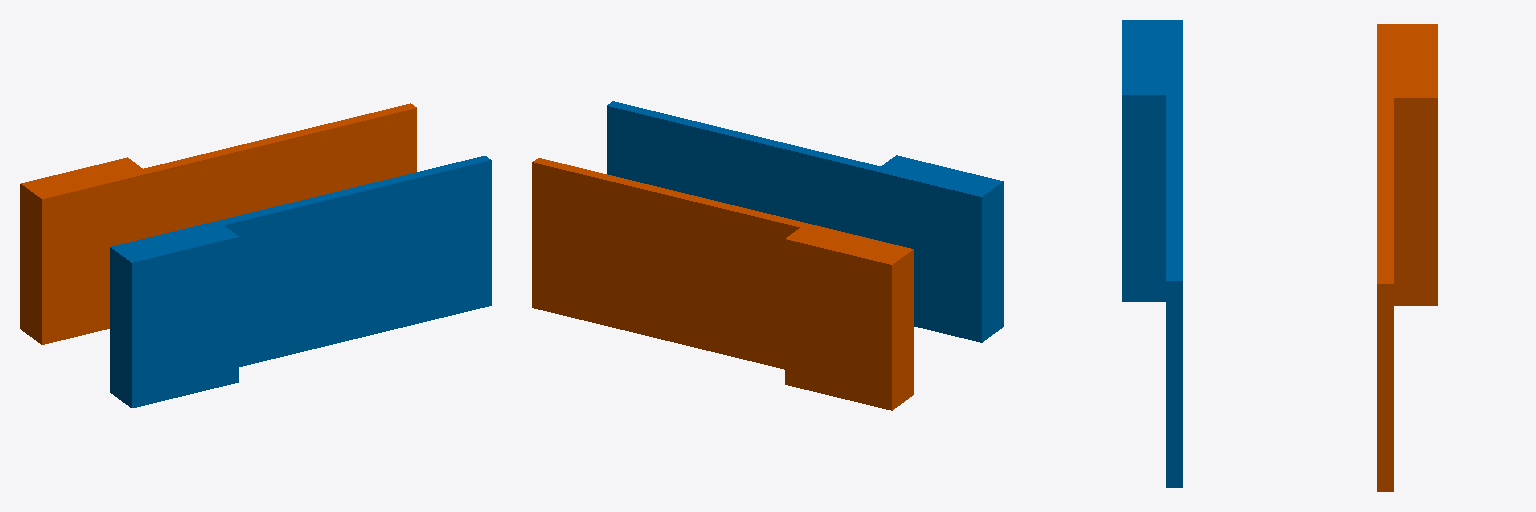
The robot description file, URDF, robot "rizon4":
<?xml version="1.0"?>
<!-- ======================================================================== -->
<!-- | Flexiv Rizon 4 (with blurred dynamic parameters)                     | -->
<!-- ======================================================================== -->
<robot name="rizon4">
  <joint name="joint1" type="revolute">
    <parent link="base_link" />
    <child link="link1" />
    <origin rpy="0.0 0.0 -3.141592653589793" xyz="0.0 0.0 0.155" />
    <axis xyz="0 0 1" />
    <limit effort="123" lower="-2.7925" upper="2.7925" velocity="2.0944" />
  </joint>
  <joint name="joint2" type="revolute">
    <parent link="link1" />
    <child link="link2" />
    <origin rpy="0.0 0.0 0.0" xyz="0.0 0.03 0.21" />
    <axis xyz="0 1 0" />
    <limit effort="123" lower="-2.2689" upper="2.2689" velocity="2.0944" />
  </joint>
  <joint name="joint3" type="revolute">
    <parent link="link2" />
    <child link="link3" />
    <origin rpy="0.0 0.0 0.0" xyz="0.0 0.035 0.205" />
    <axis xyz="0 0 1" />
    <limit effort="64" lower="-2.9671" upper="2.9671" velocity="2.4435" />
  </joint>
  <joint name="joint4" type="revolute">
    <parent link="link3" />
    <child link="link4" />
    <origin rpy="0.0 0.0 -3.141592653589793" xyz="-0.02 -0.03 0.19" />
    <axis xyz="0 1 0" />
    <limit effort="64" lower="-1.8675" upper="2.6878" velocity="2.4435" />
  </joint>
  <joint name="joint5" type="revolute">
    <parent link="link4" />
    <child link="link5" />
    <origin rpy="0.0 0.0 -3.141592653589793" xyz="-0.02 0.025 0.195" />
    <axis xyz="0 0 1" />
    <limit effort="39" lower="-2.9671" upper="2.9671" velocity="4.8869" />
  </joint>
  <joint name="joint6" type="revolute">
    <parent link="link5" />
    <child link="link6" />
    <origin rpy="0.0 0.0 0.0" xyz="0.0 0.03 0.19" />
    <axis xyz="0 1 0" />
    <limit effort="39" lower="-1.3963" upper="4.5379" velocity="4.8869" />
  </joint>
  <joint name="joint7" type="revolute">
    <parent link="link6" />
    <child link="link7" />
    <origin rpy="0.0 -1.5707963478683205 0.0" xyz="-0.055 0.07 0.11" />
    <axis xyz="0 0 1" />
    <limit effort="39" lower="-2.9671" upper="2.9671" velocity="4.8869" />
  </joint>
  <joint name="link7_to_flange" type="fixed">
    <parent link="link7" />
    <child link="flange" />
    <origin rpy="0.0 0.0 -3.141592653589793" xyz="0.0 0.0 0.081" />
  </joint>
  
  <joint name="flexiv_hand_joint" type="fixed">
    <parent link="flange"/>
    <child link="base_hand"/>
    <origin rpy="0 0 0" xyz="0 0 0"/>
  </joint>
  
  
  <joint name="open_fingers_tcp_joint" type="fixed">
    <origin rpy="0 0 0" xyz="0 0 0.15"/>
    <parent link="base_hand"/>
    <child link="tcp"/>
    <axis xyz="0 0 1"/>
  </joint>

  <joint name="closed_fingers_tcp_joint" type="fixed">
    <origin rpy="0 0 0" xyz="0 0 0.20"/>
    <parent link="base_hand"/>
    <child link="closed_fingers_tcp"/>
    <axis xyz="0 0 1"/>
  </joint>

  <!-- left finger joints -->
  <joint name="left_outer_knuckle_joint" type="revolute">
    <origin rpy="0 0 0" xyz="0 -0.0325 0.0825"/>
    <parent link="base_hand"/>
    <child link="left_outer_bar"/>
    <axis xyz="1 0 0"/>
    <limit effort="0" lower="-0.155" upper="0.7854" velocity="2.0"/>
    <mimic joint="finger_width_joint" multiplier="9.404" offset="-0.155"/>
  </joint>

  <joint name="left_inner_finger_joint" type="fixed">
    <origin rpy="0 0 0" xyz="0 0 0.058"/>
    <parent link="left_outer_bar"/>
    <child link="left_finger_mount"/>
    <axis xyz="1 0 0"/>
    <limit effort="0" lower="-0.7854" upper="0.155" velocity="2.0"/>
    <mimic joint="left_outer_knuckle_joint" multiplier="-1" offset="0"/>
  </joint>
  <joint name="left_inner_finger_pad_joint" type="fixed">
    <origin rpy="0 0 0" xyz="0 0.010 0.0235"/>
    <parent link="left_finger_mount"/>
    <child link="left_finger_tip"/>
    <axis xyz="0 0 1"/>
  </joint>
  
  
  
  <joint name="left_finger_tcp_joint" type="fixed">
    <origin rpy="0 0 0" xyz="0 0.0135 0.036"/>
    <parent link="left_finger_tip"/>
    <child link="left_finger_tcp"/>
    <axis xyz="0 0 1"/>
  </joint>

  <!-- right finger joints -->
  <joint name="right_outer_knuckle_joint" type="revolute">
    <origin rpy="0 0 3.141592653589793" xyz="0 0.0325 0.0825"/>
    <parent link="base_hand"/>
    <child link="right_outer_bar"/>
    <axis xyz="1 0 0"/>
    <limit effort="0" lower="-0.155" upper="0.7854" velocity="2.0"/>
    <mimic joint="left_outer_knuckle_joint" multiplier="1" offset="0"/>
  </joint>

  <joint name="right_inner_finger_joint" type="fixed">      
    <origin rpy="0 0 0" xyz="0 0 0.058"/>
    <parent link="right_outer_bar"/>
    <child link="right_finger_mount"/>
    <axis xyz="1 0 0"/>
    <limit effort="0" lower="-0.7854" upper="0.155" velocity="2.0"/>
    <mimic joint="left_outer_knuckle_joint" multiplier="-1" offset="0"/>
  </joint>
  <joint name="right_inner_finger_pad_joint" type="fixed">
    <origin rpy="0 0 0" xyz="0 0.010 0.0235"/>
    <parent link="right_finger_mount"/>
    <child link="right_finger_tip"/>
    <axis xyz="0 0 1"/>
  </joint>
  
  
  
  <joint name="right_finger_tcp_joint" type="fixed">
    <origin rpy="0 0 0" xyz="0 0.0135 0.036"/>
    <parent link="right_finger_tip"/>
    <child link="right_finger_tcp"/>
    <axis xyz="0 0 1"/>
  </joint>

  <link name="base_link">
    <inertial>
      <mass value="3.7" />
      <origin rpy="0 0 0" xyz="0.0 -0.0 0.09" />
      <inertia ixx="0.02" ixy="0.0" ixz="0.0" iyy="0.02" iyz="0.0" izz="0.01" />
    </inertial>
    <visual>
      <origin rpy="0 0 0" xyz="0 0 0" />
      <geometry>
        <mesh filename="meshes/rizon4/visual/link0.obj" />
      </geometry>
      <material name="rizon_light_grey" />
    </visual>
    <collision>
      <origin rpy="0 0 0" xyz="0 0 0" />
      <geometry>
        <mesh filename="meshes/rizon4/collision/link0.stl" />
      </geometry>
    </collision>
  </link>
  <link name="link1">
    <inertial>
      <mass value="3.7" />
      <origin rpy="0 0 0" xyz="0.0 0.01 0.15" />
      <inertia ixx="0.03" ixy="0.0" ixz="0.0" iyy="0.03" iyz="0.0" izz="0.01" />
    </inertial>
    <visual>
      <origin rpy="0 0 0" xyz="0 0 0" />
      <geometry>
        <mesh filename="meshes/rizon4/visual/link1.obj" />
      </geometry>
      <material name="rizon_light_grey" />
    </visual>
    <collision>
      <origin rpy="0 0 0" xyz="0 0 0" />
      <geometry>
        <mesh filename="meshes/rizon4/collision/link1.stl" />
      </geometry>
    </collision>
  </link>
  <link name="link2">
    <inertial>
      <mass value="2.7" />
      <origin rpy="0 0 0" xyz="0.0 0.04 0.1" />
      <inertia ixx="0.02" ixy="0.0" ixz="0.0" iyy="0.02" iyz="-0.0" izz="0.0" />
    </inertial>
    <visual>
      <origin rpy="0 0 0" xyz="0 0 0" />
      <geometry>
        <mesh filename="meshes/rizon4/visual/link2.obj" />
      </geometry>
      <material name="rizon_light_grey" />
    </visual>
    <collision>
      <origin rpy="0 0 0" xyz="0 0 0" />
      <geometry>
        <mesh filename="meshes/rizon4/collision/link2.stl" />
      </geometry>
    </collision>
  </link>
  <link name="link3">
    <inertial>
      <mass value="2.4" />
      <origin rpy="0 0 0" xyz="-0.01 -0.0 0.13" />
      <inertia ixx="0.01" ixy="0.0" ixz="-0.0" iyy="0.01" iyz="-0.0" izz="0.0" />
    </inertial>
    <visual>
      <origin rpy="0 0 0" xyz="0 0 0" />
      <geometry>
        <mesh filename="meshes/rizon4/visual/link3.obj" />
      </geometry>
      <material name="rizon_light_grey" />
    </visual>
    <collision>
      <origin rpy="0 0 0" xyz="0 0 0" />
      <geometry>
        <mesh filename="meshes/rizon4/collision/link3.stl" />
      </geometry>
    </collision>
  </link>
  <link name="link4">
    <inertial>
      <mass value="2.4" />
      <origin rpy="0 0 0" xyz="-0.01 0.03 0.1" />
      <inertia ixx="0.02" ixy="0.0" ixz="-0.0" iyy="0.02" iyz="-0.0" izz="0.0" />
    </inertial>
    <visual>
      <origin rpy="0 0 0" xyz="0 0 0" />
      <geometry>
        <mesh filename="meshes/rizon4/visual/link4.obj" />
      </geometry>
      <material name="rizon_light_grey" />
    </visual>
    <collision>
      <origin rpy="0 0 0" xyz="0 0 0" />
      <geometry>
        <mesh filename="meshes/rizon4/collision/link4.stl" />
      </geometry>
    </collision>
  </link>
  <link name="link5">
    <inertial>
      <mass value="2.4" />
      <origin rpy="0 0 0" xyz="-0.0 0.0 0.13" />
      <inertia ixx="0.01" ixy="0.0" ixz="0.0" iyy="0.01" iyz="0.0" izz="0.0" />
    </inertial>
    <visual>
      <origin rpy="0 0 0" xyz="0 0 0" />
      <geometry>
        <mesh filename="meshes/rizon4/visual/link5.obj" />
      </geometry>
      <material name="rizon_light_grey" />
    </visual>
    <collision>
      <origin rpy="0 0 0" xyz="0 0 0" />
      <geometry>
        <mesh filename="meshes/rizon4/collision/link5.stl" />
      </geometry>
    </collision>
  </link>
  <link name="link6">
    <inertial>
      <mass value="2.1" />
      <origin rpy="0 0 0" xyz="-0.01 0.06 0.07" />
      <inertia ixx="0.01" ixy="-0.0" ixz="-0.0" iyy="0.01" iyz="0.0" izz="0.0" />
    </inertial>
    <visual>
      <origin rpy="0 0 0" xyz="0 0 0" />
      <geometry>
        <mesh filename="meshes/rizon4/visual/link6.obj" />
      </geometry>
      <material name="rizon_light_grey" />
    </visual>
    <collision>
      <origin rpy="0 0 0" xyz="0 0 0" />
      <geometry>
        <mesh filename="meshes/rizon4/collision/link6.stl" />
      </geometry>
    </collision>
  </link>
  <link name="link7">
    <inertial>
      <mass value="0.8" />
      <origin rpy="0 0 0" xyz="0.0 -0.0 0.03" />
      <inertia ixx="0.0" ixy="0.0" ixz="0.0" iyy="0.0" iyz="0.0" izz="0.0" />
    </inertial>
    <visual>
      <origin rpy="0 0 0" xyz="0 0 0" />
      <geometry>
        <mesh filename="meshes/rizon4/visual/link7.obj" />
      </geometry>
      <material name="rizon_light_grey" />
    </visual>
    <collision>
      <origin rpy="0 0 0" xyz="0 0 0" />
      <geometry>
        <mesh filename="meshes/rizon4/collision/link7.stl" />
      </geometry>
    </collision>
  </link>
  <link name="flange" />
  
  <link name="base_hand">
    <inertial>
      <origin rpy="0 0 0" xyz="0 0 0.057"/>
      <mass value="1.186"/>
      <inertia ixx="3E-3" ixy="0" ixz="0" iyy="3E-3" iyz="-0" izz="1E-3"/>
    </inertial>
    <visual>
      <origin rpy="0 0 1.5707963267948966" xyz="0 0 0"/>
      <geometry>
        <mesh filename="meshes/grav/visual/base.stl" scale="0.001 0.001 0.001"/>
      </geometry>
      <material name="flexiv_black"/>
    </visual>
    <collision>
      <origin rpy="0 0 1.5707963267948966" xyz="0 0 0"/>
      <geometry>
        <mesh filename="meshes/grav/collision/base.stl" scale="0.001 0.001 0.001"/>
      </geometry>
    </collision>
  </link>
  <link name="left_outer_bar">
    <inertial>
        <origin xyz="0 0 0.029" rpy="0 0 0" />
        <mass value="1E-4" />
        <inertia ixx="1E-7" ixy="0" ixz="0" iyy="1E-7" iyz="0" izz="1E-7" />
    </inertial>
    <visual>
      <origin rpy="0 0 1.5707963267948966" xyz="0 0 0"/>
      <geometry>
        <mesh filename="meshes/grav/visual/outer_bar.stl" scale="0.001 0.001 0.001"/>
      </geometry>
      <material name="flexiv_black"/>
    </visual>
  </link>
  
  <link name="left_finger_mount">
    <inertial>
        <origin xyz="0 0 0" rpy="0 0 0" />
        <mass value="1E-4" />
        <inertia ixx="1E-7" ixy="0" ixz="0" iyy="1E-7" iyz="0" izz="1E-7" />
    </inertial>
    <visual>
      <origin rpy="0 0 1.5707963267948966" xyz="0 0 0"/>
      <geometry>
        <mesh filename="meshes/grav/visual/finger_mount.stl" scale="0.001 0.001 0.001"/>
      </geometry>
      <material name="flexiv_black"/>
    </visual>
  </link>
  <link name="left_finger_plus">
    <inertial>
      <origin rpy="0 0 0" xyz="0 0 0"/>
      <mass value="0"/>
      <inertia ixx="0" ixy="0" ixz="0" iyy="0" iyz="0" izz="0"/>
    </inertial>
    <visual>
      <origin rpy="0 -1.5707963267948966 0" xyz="0 0 0"/>
      <geometry>
        <mesh filename="meshes/grav/visual/plushand.obj" scale="0.001 0.001 0.001"/>
      </geometry>
    </visual>
    <collision>
      <origin rpy="0 -1.5707963267948966 0" xyz="0 0 0"/>
      <geometry>
        <mesh filename="meshes/grav/collision/plushand.stl" scale="0.001 0.001 0.001"/>
      </geometry>
    </collision>
  </link>
  <link name="right_finger_plus">
    <inertial>
      <origin rpy="0 0 0" xyz="0 0 0"/>
      <mass value="0"/>
      <inertia ixx="0" ixy="0" ixz="0" iyy="0" iyz="0" izz="0"/>
    </inertial>
    <visual>
      <origin rpy="0 -1.5707963267948966 0" xyz="0 0 0"/>
      <geometry>
        <mesh filename="meshes/grav/visual/plushand.obj" scale="0.001 0.001 0.001"/>
      </geometry>
    </visual>
    <collision>
      <origin rpy="0 -1.5707963267948966 0" xyz="0 0 0"/>
      <geometry>
        <mesh filename="meshes/grav/collision/plushand.stl" scale="0.001 0.001 0.001"/>
      </geometry>
    </collision>
  </link>
  
  <joint name="left_finger_plus_joint" type="fixed">
    <origin rpy="0 0 0" xyz="0.0064 0.0135 0.0255"/>
    <parent link="left_finger_tip"/>
    <child link="left_finger_plus"/>
    <axis xyz="0 0 1"/>
  </joint>
  <joint name="right_finger_plus_joint" type="fixed">
    <origin rpy="0 0 0" xyz="0.0064 0.0135 0.0255"/>
    <parent link="right_finger_tip"/>
    <child link="right_finger_plus"/>
    <axis xyz="0 0 1"/>
  </joint>
 
  <link name="left_finger_tip">
    <inertial>
      <origin rpy="0 0 0" xyz="0 0 0"/>
      <mass value="0"/>
      <inertia ixx="0" ixy="0" ixz="0" iyy="0" iyz="0" izz="0"/>
    </inertial>
    <visual>
      <origin rpy="0 0 1.5707963267948966" xyz="0 0 0"/>
      <geometry>
        <mesh filename="meshes/grav/visual/finger_tip.obj" scale="0.001 0.001 0.001"/>
      </geometry>
    </visual>
    <collision>
      <origin rpy="0 0 1.5707963267948966" xyz="0 0 0"/>
      <geometry>
        <mesh filename="meshes/grav/collision/finger_tip.stl" scale="0.001 0.001 0.001"/>
      </geometry>
    </collision>
  </link>
  
  <link name="right_outer_bar">
    <inertial>
        <origin xyz="0 0 0.029" rpy="0 0 0" />
        <mass value="1E-4" />
        <inertia ixx="1E-7" ixy="0" ixz="0" iyy="1E-7" iyz="0" izz="1E-7" />
    </inertial>
    <visual>
      <origin rpy="0 0 1.5707963267948966" xyz="0 0 0"/>
      <geometry>
        <mesh filename="meshes/grav/visual/outer_bar.stl" scale="0.001 0.001 0.001"/>
      </geometry>
      <material name="flexiv_black"/>
    </visual>
  </link>
  
  
  <link name="right_finger_mount">
    <inertial>
        <origin xyz="0 0 0" rpy="0 0 0" />
        <mass value="1E-4" />
        <inertia ixx="1E-7" ixy="0" ixz="0" iyy="1E-7" iyz="0" izz="1E-7" />
    </inertial>
    <visual>
      <origin rpy="0 0 1.5707963267948966" xyz="0 0 0"/>
      <geometry>
        <mesh filename="meshes/grav/visual/finger_mount.stl" scale="0.001 0.001 0.001"/>
      </geometry>
      <material name="flexiv_black"/>
    </visual>
  </link>
  <link name="right_finger_tip">
    <inertial>
      <origin rpy="0 0 0" xyz="0 0 0"/>
      <mass value="0"/>
      <inertia ixx="0" ixy="0" ixz="0" iyy="0" iyz="0" izz="0"/>
    </inertial>
    <visual>
      <origin rpy="0 0 1.5707963267948966" xyz="0 0 0"/>
      <geometry>
        <mesh filename="meshes/grav/visual/finger_tip.obj" scale="0.001 0.001 0.001"/>
      </geometry>
    </visual>
    <collision>
      <origin rpy="0 0 1.5707963267948966" xyz="0 0 0"/>
      <geometry>
        <mesh filename="meshes/grav/collision/finger_tip.stl" scale="0.001 0.001 0.001"/>
      </geometry>
    </collision>
  </link>
  
  

  <!-- TCP links -->
  <link name="tcp"><!-- open finger, used by RCA -->
    <inertial>
      <origin rpy="0 0 0" xyz="0 0 0"/>
      <mass value="0"/>
      <inertia ixx="0" ixy="0" ixz="0" iyy="0" iyz="0" izz="0"/>
    </inertial>
  </link>
  <link name="closed_fingers_tcp">
    <inertial>
      <origin rpy="0 0 0" xyz="0 0 0"/>
      <mass value="0"/>
      <inertia ixx="0" ixy="0" ixz="0" iyy="0" iyz="0" izz="0"/>
    </inertial>
  </link>
  <link name="left_finger_tcp">
    <inertial>
      <origin rpy="0 0 0" xyz="0 0 0"/>
      <mass value="0"/>
      <inertia ixx="0" ixy="0" ixz="0" iyy="0" iyz="0" izz="0"/>
    </inertial>
  </link>
  <link name="right_finger_tcp">
    <inertial>
      <origin rpy="0 0 0" xyz="0 0 0"/>
      <mass value="0"/>
      <inertia ixx="0" ixy="0" ixz="0" iyy="0" iyz="0" izz="0"/>
    </inertial>
  </link>
  
  
  <material name="rizon_blue">
    <color rgba="0.0 0.0 1.0 0.5" />
  </material>
  <material name="rizon_light_grey">
    <color rgba="0.7 0.7 0.7 1.0" />
  </material>
  <material name="rizon_dark_grey">
    <color rgba="0.4 0.4 0.4 1.0" />
  </material>
  <material name="rizon_white">
    <color rgba="1.0 1.0 1.0 1.0" />
  </material>
  <material name="flexiv_black">
    <color rgba="0.22 0.22 0.22 1"/>
  </material>
  
</robot>

--- Render facts (derived) ---
Views: 3 orthographic renders of the robot side by side, from view 1: azimuth 30°, elevation 25°; view 2: azimuth 150°, elevation 25°; view 3: azimuth 270°, elevation 25°.
Robot: rizon4 — 22 links, 21 joints (9 revolute, 12 fixed); root link base_link; default pose: all joints at 0.
Visible links, largest first — view 1: left_finger_plus, right_finger_plus; view 2: right_finger_plus, left_finger_plus; view 3: left_finger_plus, right_finger_plus.
Link boxes in pixels (x1,y1,x2,y2): left_finger_plus: (110, 156, 491, 407); right_finger_plus: (20, 103, 416, 344); right_finger_plus: (532, 158, 913, 410); left_finger_plus: (607, 101, 1003, 342); left_finger_plus: (1122, 20, 1182, 487); right_finger_plus: (1377, 24, 1437, 491).
Size in the robot's own frame: 0.035 by 0.018 by 0.0132 metres.
2 mesh visuals loaded from 13 distinct referenced files (1 OBJ); not drawn: 15 (reference not matched to a file when rendering).